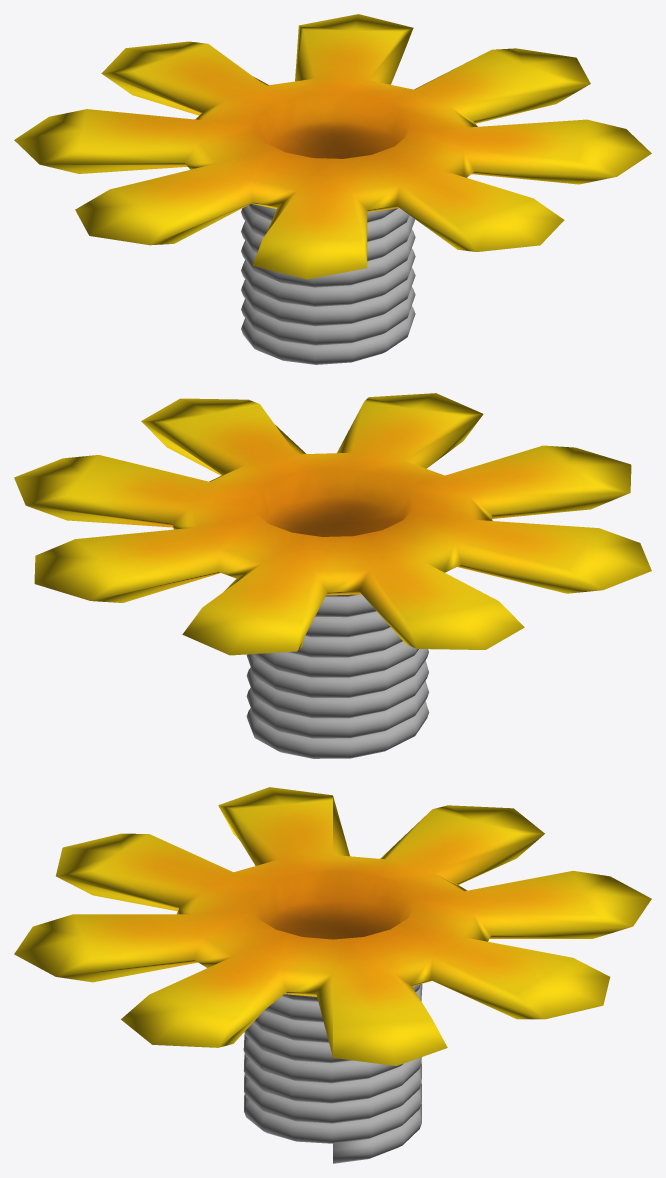
File: sunflower_staff_spell_effect.fbx
3 views of the same model, one above another, from view 1: azimuth 30°, elevation 25°; view 2: azimuth 150°, elevation 25°; view 3: azimuth 270°, elevation 25° (orthographic). The views are drawn at different scales.
Visible parts, largest first — view 1: flower_base, compressed; view 2: flower_base, compressed; view 3: flower_base, compressed.
Boxes of the visible parts, x1,y1,x2,y2 form: flower_base: (14, 14, 651, 279); compressed: (241, 204, 415, 364); flower_base: (14, 393, 651, 655); compressed: (246, 594, 429, 758); flower_base: (14, 787, 651, 1065); compressed: (243, 984, 422, 1163).
Bounding box in the file's own units: 28.89 × 10.9 × 27.92.
2 materials, 1 textured.
